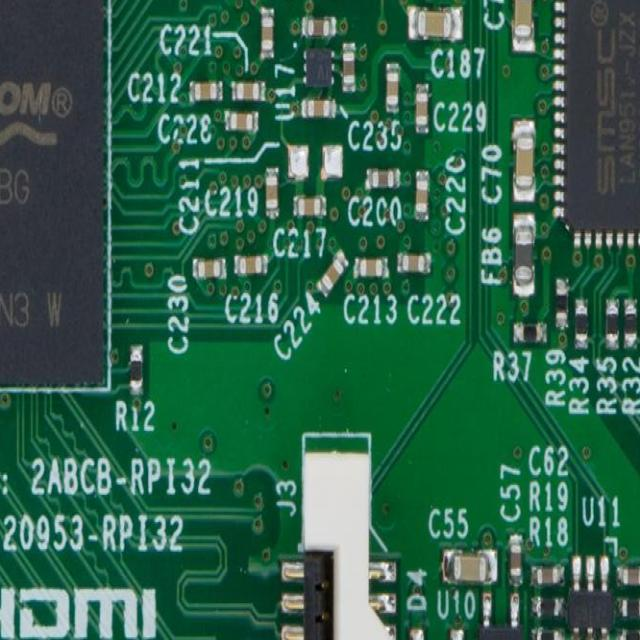IC: (0, 0, 108, 388), (564, 0, 640, 230), (563, 552, 615, 640), (476, 590, 522, 640), (304, 46, 332, 86)
capacitor: (407, 3, 464, 41), (510, 119, 536, 202), (441, 549, 499, 585), (315, 248, 348, 304), (511, 0, 535, 53), (262, 162, 282, 216), (364, 167, 402, 190), (223, 110, 259, 134), (192, 256, 227, 280), (259, 5, 274, 60), (302, 97, 336, 121), (353, 256, 390, 277), (508, 534, 523, 584), (416, 81, 430, 134), (294, 195, 328, 216), (398, 253, 430, 275), (233, 254, 268, 274), (189, 80, 222, 101), (416, 170, 429, 223), (233, 81, 264, 101), (534, 566, 563, 587), (620, 565, 640, 586)
component text: (0, 60, 70, 333), (588, 5, 640, 204)
connector: (276, 434, 400, 640)
diode: (404, 624, 465, 640)
ferrite bead: (511, 212, 535, 297)
pads: (285, 142, 343, 181)
resistor: (511, 319, 548, 344), (129, 341, 144, 397), (572, 297, 589, 344), (603, 298, 618, 348), (555, 276, 569, 324), (531, 597, 564, 616), (625, 302, 637, 348), (619, 597, 640, 619), (534, 628, 564, 640), (617, 628, 640, 640)
unknown: (340, 43, 356, 91), (384, 61, 399, 111), (303, 16, 336, 37)
